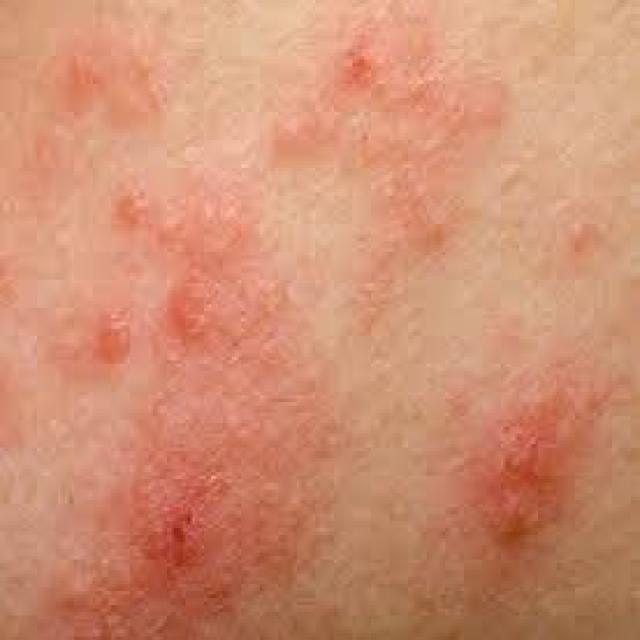Eczema: (54, 39, 255, 352), (90, 404, 363, 611), (447, 360, 626, 573), (310, 32, 502, 228)
